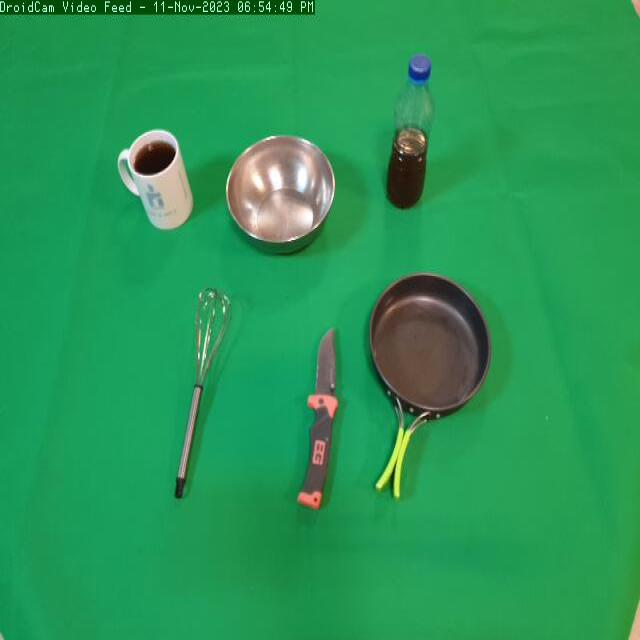bowl: (222, 133, 337, 264)
fullbottle: (384, 45, 444, 216)
fullcup: (115, 125, 199, 243)
knife: (294, 322, 359, 520)
pan: (361, 272, 507, 511)
whisk: (156, 285, 244, 514)
